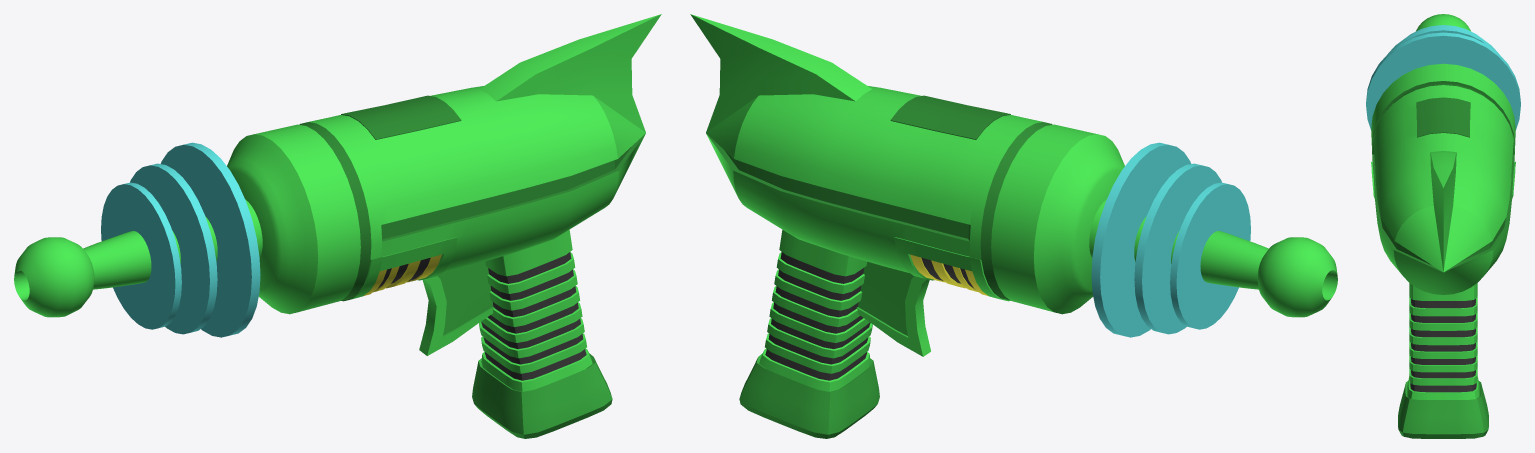
The model's file is ZapGun.fbx.
The picture shows the model from 3 angles, left to right: view 1: azimuth 30°, elevation 25°; view 2: azimuth 150°, elevation 25°; view 3: azimuth 270°, elevation 25°; orthographic projection. The views are drawn at different scales.
Parts seen in each view (by area): view 1: Cylinder.001, Cube, Circle.001, Circle.003, Circle.002, Sphere, Cube.001, Cylinder; view 2: Cylinder.001, Cube, Circle.001, Circle.003, Circle.002, Sphere, Cube.001, Cylinder; view 3: Cylinder.001, Cube, Circle.001, Circle.002, Sphere, Circle.003.
Boxes of the visible parts, x1,y1,x2,y2 form: Cylinder.001: (227, 14, 661, 314); Cube: (472, 229, 612, 438); Circle.001: (160, 142, 260, 337); Circle.003: (101, 182, 181, 329); Circle.002: (130, 163, 217, 334); Sphere: (14, 237, 94, 317); Cube.001: (419, 261, 494, 355); Cylinder: (83, 199, 262, 289); Cylinder.001: (690, 14, 1124, 314); Cube: (739, 229, 879, 438); Circle.001: (1091, 142, 1191, 337); Circle.003: (1170, 182, 1250, 329); Circle.002: (1134, 163, 1221, 334); Sphere: (1257, 237, 1337, 317); Cube.001: (856, 261, 930, 356); Cylinder: (1089, 199, 1268, 289); Cylinder.001: (1371, 63, 1515, 294); Cube: (1398, 283, 1488, 438); Circle.001: (1366, 32, 1520, 130); Circle.002: (1389, 27, 1497, 52); Sphere: (1416, 14, 1470, 31); Circle.003: (1407, 25, 1479, 36).
Bounding box in the file's own units: 902 × 241 × 498.
